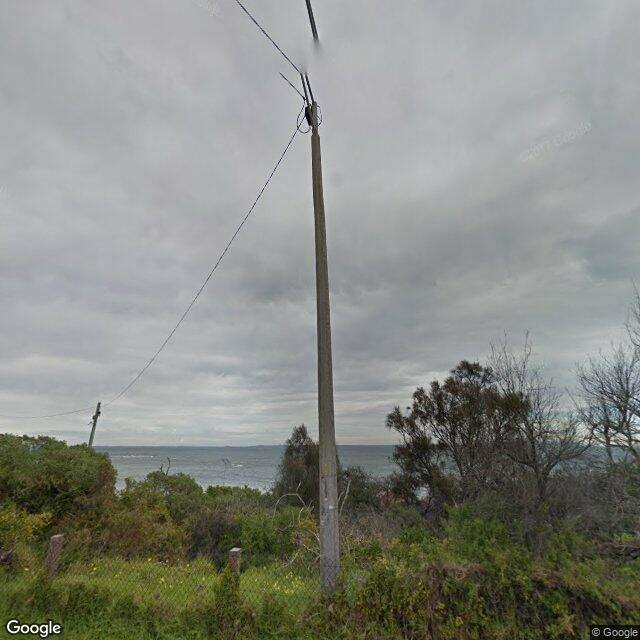streetlight: (301, 0, 317, 133)
timber-pole: (311, 134, 341, 597)
